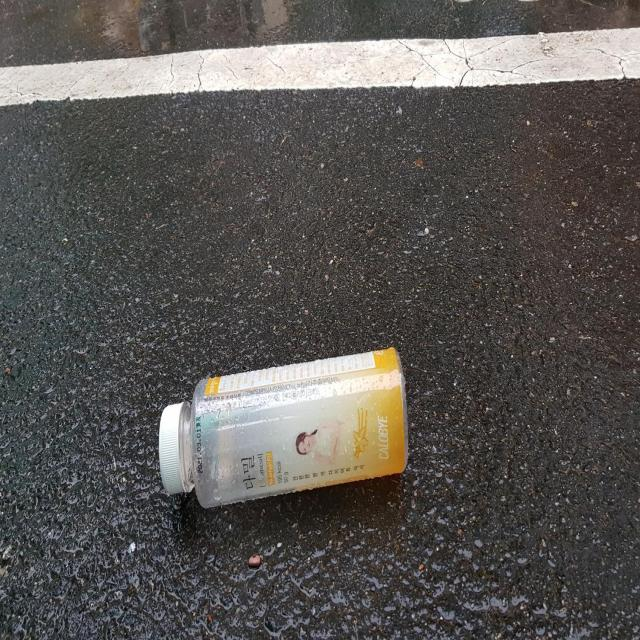plastic: (158, 347, 409, 508)
